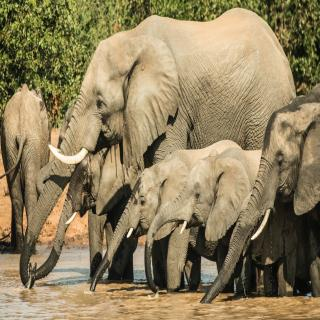Elephant: (28, 7, 284, 290), (213, 85, 320, 304), (145, 143, 270, 320), (88, 158, 208, 308), (27, 138, 118, 309), (0, 73, 53, 256)
